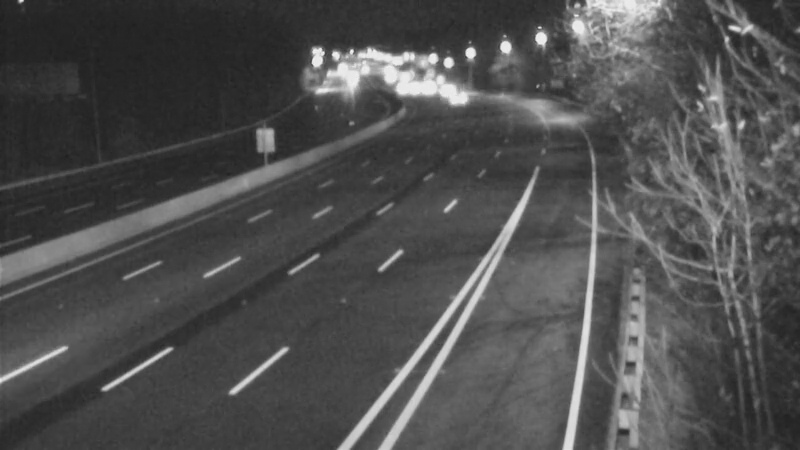vehicle: (405, 62, 455, 112), (417, 61, 467, 111), (432, 72, 482, 122)
